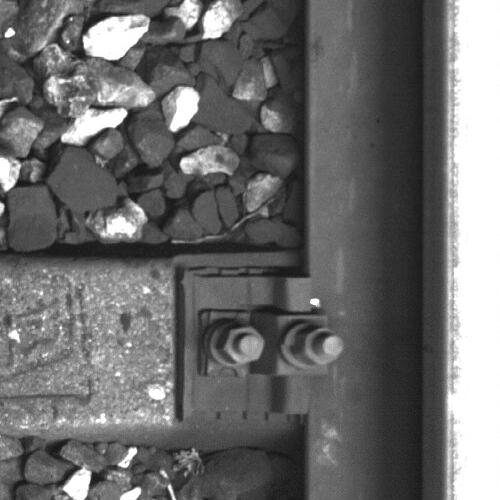kb: (192, 275, 345, 416)
nut: (291, 326, 346, 367), (217, 324, 267, 365)
rail: (446, 2, 500, 500)
tie_concr: (1, 258, 299, 426)
